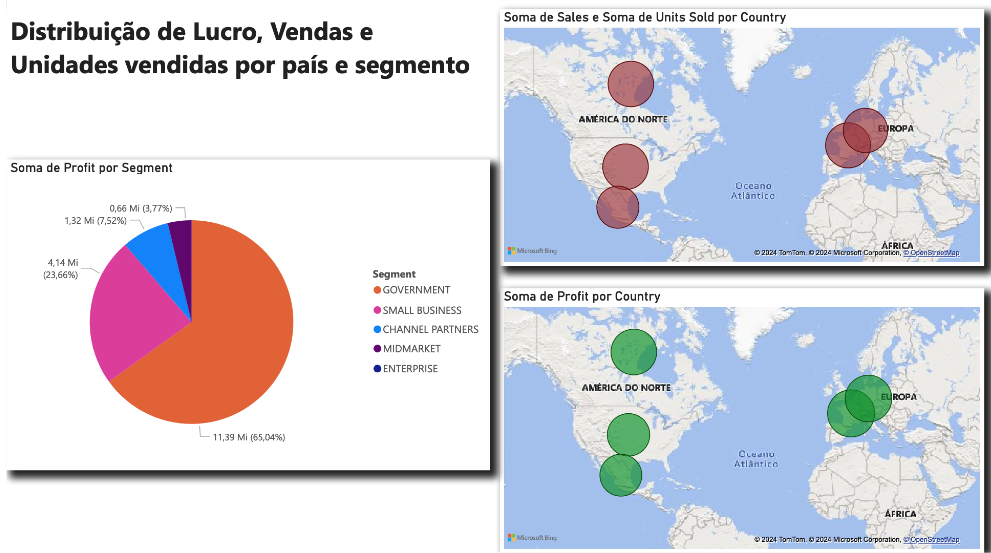

Layout of this report page (visuals, bound fields, positions):
{"tool":"powerbi","page":{"name":"Página 3","canvas":[1280,720],"ordinal":2},"visuals":[{"type":"textbox","box":[0,15,626.7,108.3],"z":0},{"type":"map","fields":{"Category":["financials.Country"],"Size":["Sum(financials. Sales)"]},"box":[640,15,628.3,333.3],"z":1000},{"type":"map","fields":{"Category":["financials.Country"],"Size":["Sum(financials.Profit)"]},"box":[640,376.7,628.3,343.3],"z":2000},{"type":"pieChart","fields":{"Category":["financials.Segment"],"Y":["Sum(financials.Profit)"]},"box":[0,210,626.7,403.3],"z":3000}]}

Visuals, with their boxes in screenshot pixels (x1, y1, x2, y2), scaled from the page's 1280x720 canvas onto the 991x553 screenshot:
textbox: [0,12,485,95]
map - financials.Country x Sum(financials. Sales): [496,12,982,268]
map - financials.Country x Sum(financials.Profit): [496,289,982,552]
pieChart - financials.Segment x Sum(financials.Profit): [0,161,485,471]
